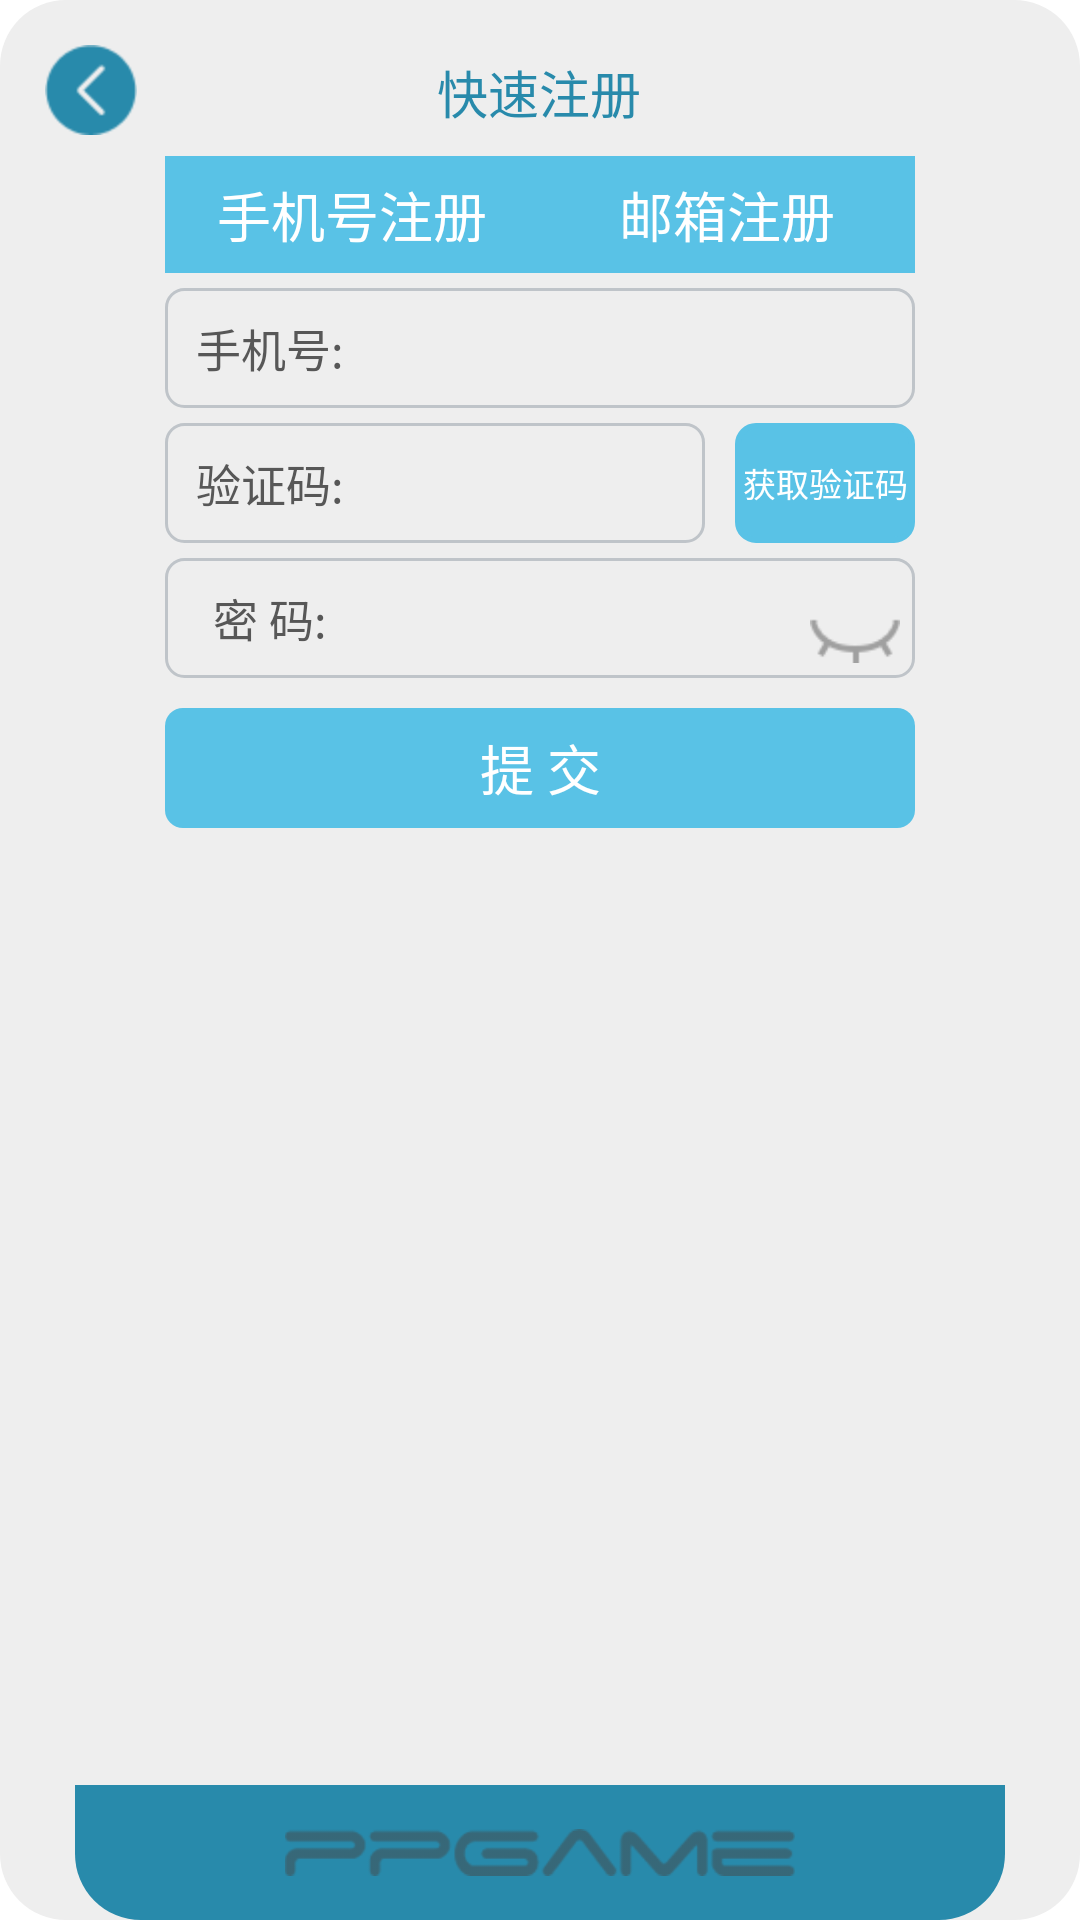

Icons on this 1080x1920 Android screen, each with its box as {"left": x1, "top": y1, "right": x2, "bottom": y2}:
user center back: {"left": 45, "top": 45, "right": 137, "bottom": 135}
